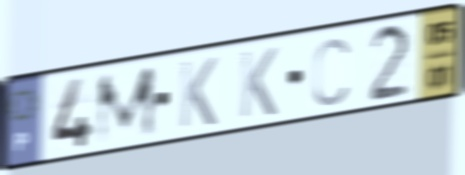2: (366, 20, 413, 105)
4: (49, 74, 95, 151)
C: (309, 35, 352, 111)
K: (176, 54, 220, 131), (237, 44, 281, 121)
M: (93, 62, 160, 149)
